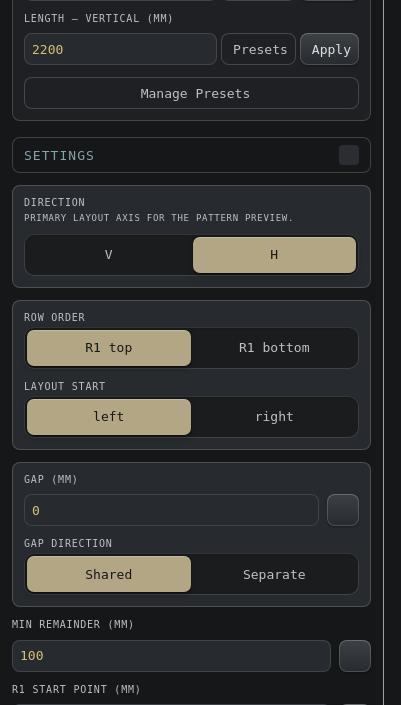
Test: the surface layout page › switching direction › keeps each direction's row order, and hands it back on return
The width and height of the screenshot is (401, 705).
(page scrolled)
Check: the element with id "ctrl-direction" is shown, box 24,234 -> 359,276
Give H an order that is not its default.
Click the button with class "ctrl-dir" showing "R1 bottom" at coordinates (274, 348), box 192,330 -> 356,366
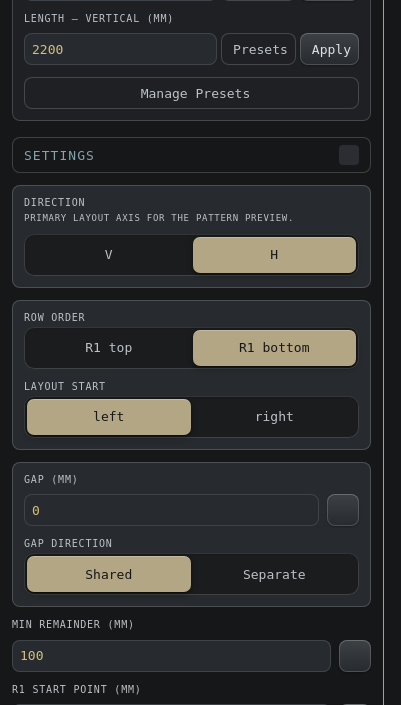
Click the button "V" at coordinates (109, 254), box 27,236 -> 190,272
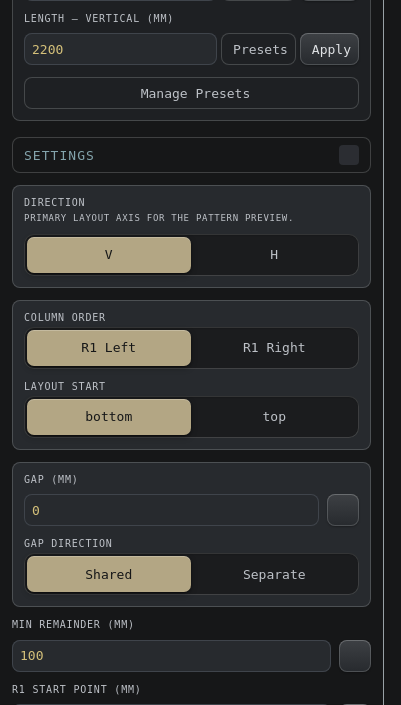
Check: the button with class "ctrl-dir" no longer shows "R1 bottom"
Click the button "H" at coordinates (274, 254), box 192,236 -> 356,272
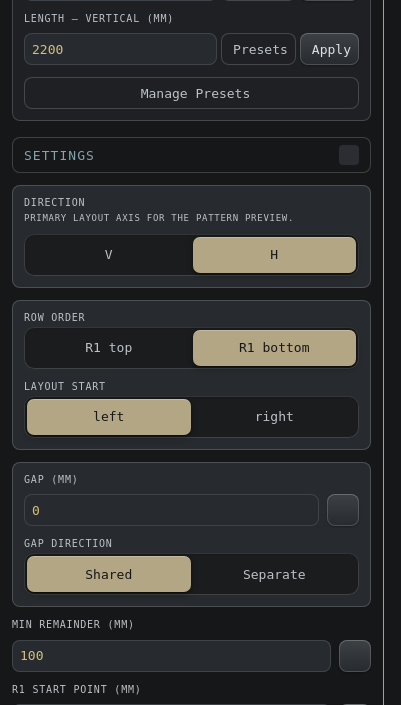
Check: the button with class "ctrl-dir" reads "R1 bottom", box 192,330 -> 356,366
